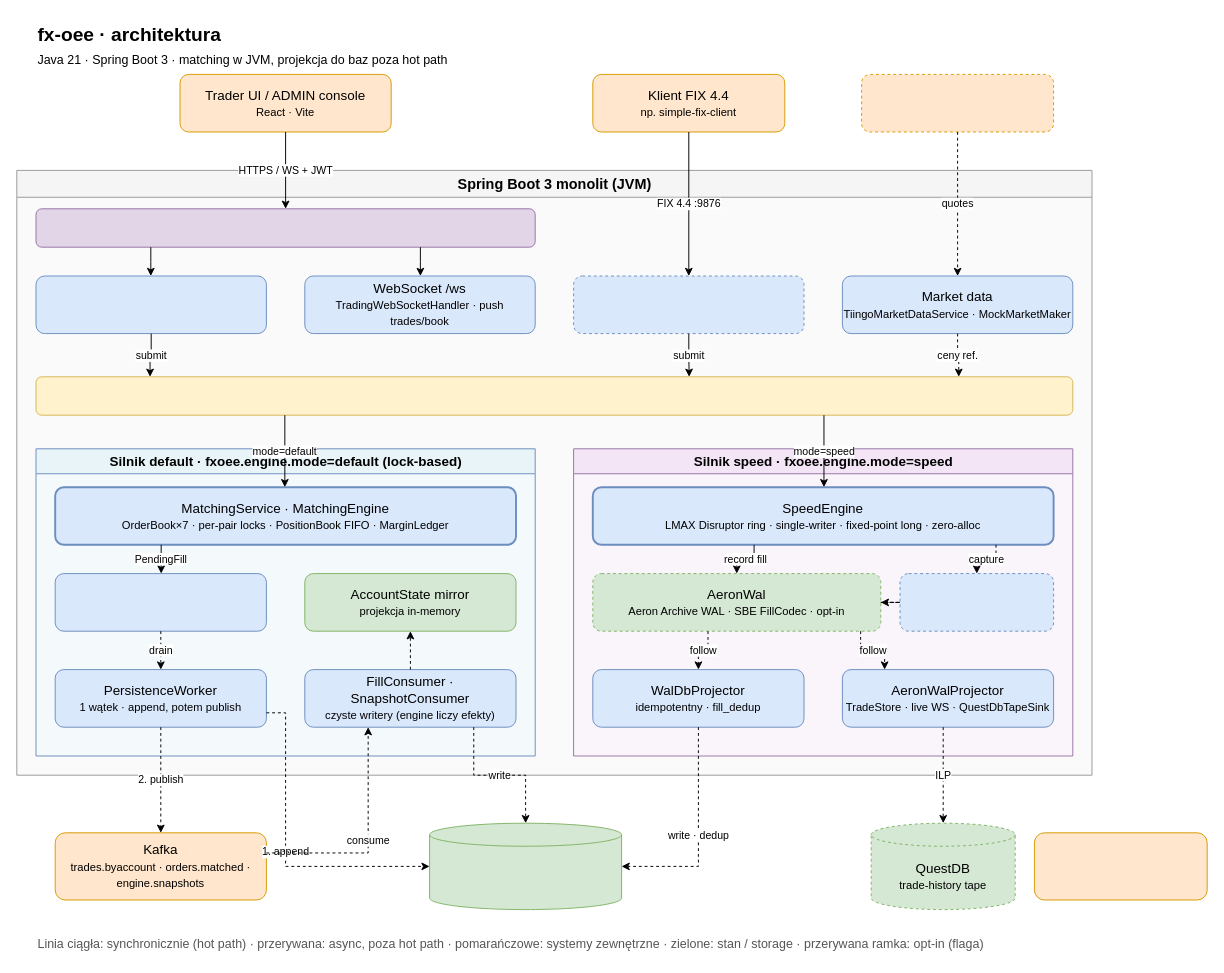
The diagram is 1224 pixels wide and 973 high, and some of its shapes have lost their labels. The shapes that lost their labels are listed below. From the top down, each one's centre as x and y in pixels, then its label:
point 957,102: Tiingo FX feed REST history + WS quotes
point 285,227: Spring Security · JWT filter · RBAC USER / ADMIN · default-deny
point 150,304: REST API Order · Engine · Account · Risk · Debug
point 688,304: FIX gateway quickfix-j · NewOrderSingle · opt-in
point 554,395: TradingEngine · pre-trade risk gate (RiskService) · CircuitBreaker · kill-switch
point 160,602: FillQueue Agrona MPSC (agrona | clq | disruptor)
point 976,602: Snapshotter snapshot + replay tail
point 525,866: PostgreSQL jOOQ · Flyway · trade_events · konta · pozycje
point 1120,866: Prometheus · Grafana scrape /actuator/prometheus
